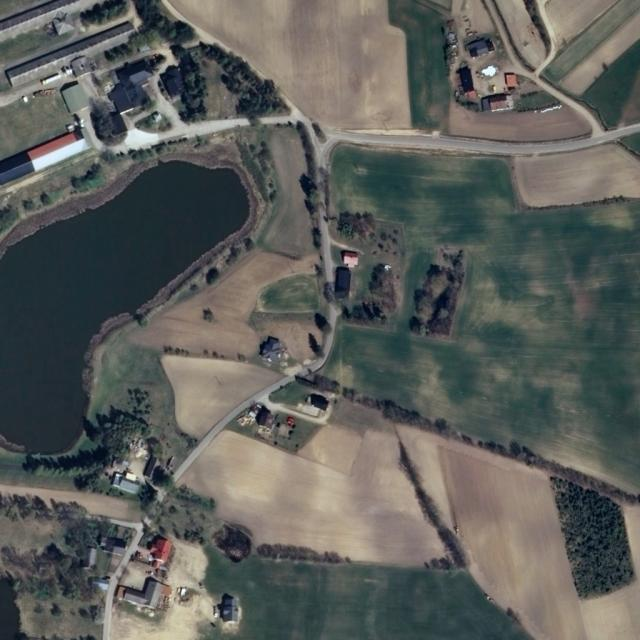agricultural_land: (126, 223, 342, 406), (126, 223, 342, 406), (437, 423, 588, 640), (164, 364, 296, 482), (540, 0, 640, 105)
building: (411, 4, 561, 156), (109, 536, 215, 639), (445, 28, 562, 113), (228, 391, 320, 458), (0, 127, 91, 187), (129, 528, 182, 582), (115, 568, 165, 612), (144, 533, 175, 564), (120, 560, 148, 591)
greenland: (325, 146, 466, 430), (58, 335, 220, 520), (0, 492, 134, 640), (549, 463, 640, 600), (196, 22, 290, 134), (387, 0, 453, 133), (232, 123, 286, 207), (170, 41, 212, 124), (0, 493, 87, 525)
wetland: (175, 416, 452, 567)
